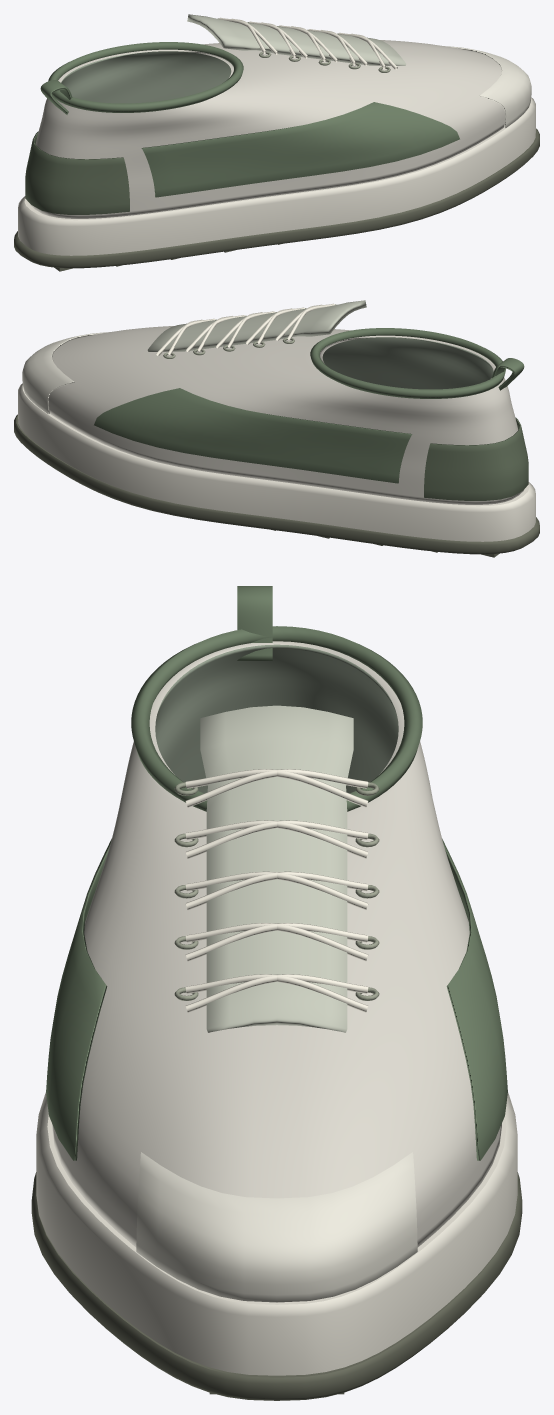
The model's file is sneaker.glb.
3 renders of one model, top to bottom at view 1: azimuth 30°, elevation 25°; view 2: azimuth 150°, elevation 25°; view 3: azimuth 270°, elevation 25°, orthographic. The views are drawn at different scales.
Visible parts, largest first — view 1: hollow-upper-and-open-collar, layered-midsole, medial-leather-panel, rubber-outsole, heel-counter, separate-raised-tongue, padded-collar, rubber-toe-cap, heel-pull-loop; view 2: hollow-upper-and-open-collar, layered-midsole, lateral-leather-panel, rubber-outsole, heel-counter, separate-raised-tongue, padded-collar, rubber-toe-cap, heel-pull-loop; view 3: hollow-upper-and-open-collar, layered-midsole, separate-raised-tongue, rubber-toe-cap, rubber-outsole, padded-collar, lateral-leather-panel, medial-leather-panel, heel-pull-loop, cross-lace-0--1, cross-lace-0-1, cross-lace-3--1 (+7 smaller).
Boxes of the visible parts, x1=… form: hollow-upper-and-open-collar: x1=29, y1=40, x2=504, y2=218; layered-midsole: x1=18, y1=97, x2=535, y2=255; medial-leather-panel: x1=141, y1=102, x2=459, y2=197; rubber-outsole: x1=14, y1=128, x2=539, y2=268; heel-counter: x1=25, y1=131, x2=129, y2=214; separate-raised-tongue: x1=187, y1=14, x2=406, y2=65; padded-collar: x1=48, y1=42, x2=243, y2=112; rubber-toe-cap: x1=444, y1=46, x2=531, y2=127; heel-pull-loop: x1=40, y1=80, x2=72, y2=114; hollow-upper-and-open-collar: x1=49, y1=326, x2=524, y2=504; layered-midsole: x1=18, y1=383, x2=535, y2=541; lateral-leather-panel: x1=94, y1=388, x2=412, y2=483; rubber-outsole: x1=14, y1=414, x2=539, y2=554; heel-counter: x1=424, y1=417, x2=528, y2=500; separate-raised-tongue: x1=147, y1=300, x2=366, y2=351; padded-collar: x1=310, y1=328, x2=505, y2=398; rubber-toe-cap: x1=22, y1=332, x2=109, y2=413; heel-pull-loop: x1=492, y1=358, x2=524, y2=390; hollow-upper-and-open-collar: x1=52, y1=641, x2=501, y2=1247; layered-midsole: x1=36, y1=1092, x2=517, y2=1375; separate-raised-tongue: x1=200, y1=705, x2=353, y2=1032; rubber-toe-cap: x1=136, y1=1152, x2=417, y2=1302; rubber-outsole: x1=31, y1=1172, x2=522, y2=1400; padded-collar: x1=131, y1=626, x2=422, y2=811; lateral-leather-panel: x1=442, y1=838, x2=507, y2=1160; medial-leather-panel: x1=46, y1=838, x2=111, y2=1160; heel-pull-loop: x1=237, y1=586, x2=272, y2=660; cross-lace-0--1: x1=185, y1=769, x2=368, y2=807; cross-lace-0-1: x1=185, y1=769, x2=368, y2=807; cross-lace-3--1: x1=185, y1=923, x2=368, y2=961.
Bounding box in the file's own units: 0.253 × 0.095 × 0.1053.
